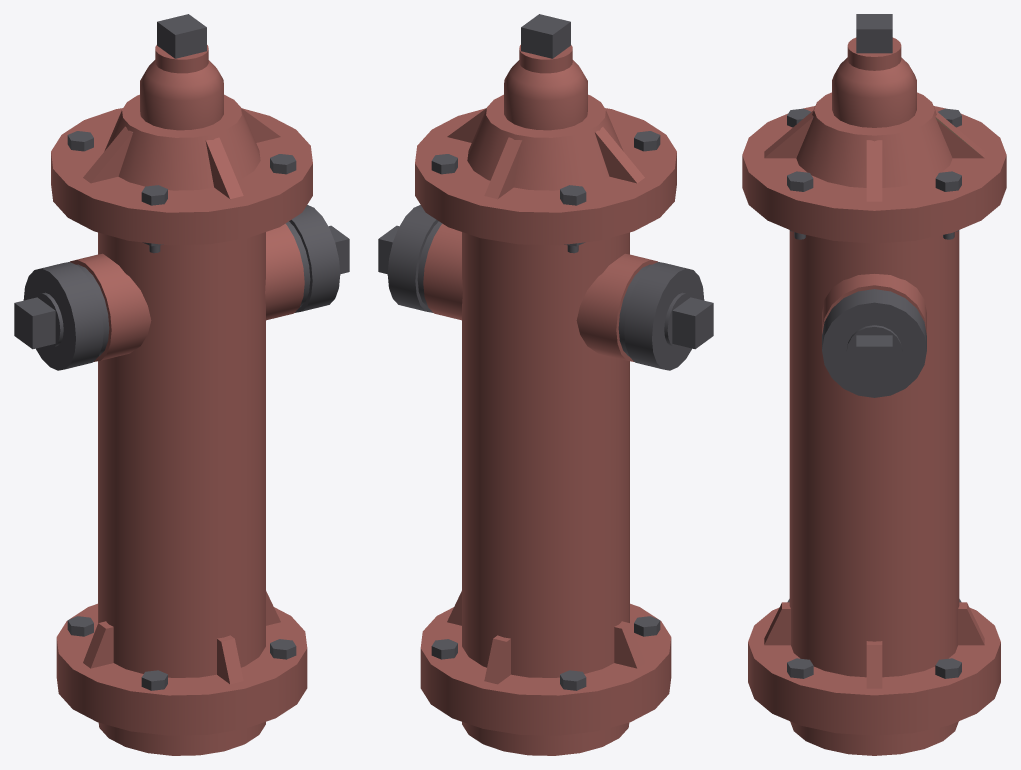
The model's file is Hydrant.fbx.
The picture shows the model from 3 angles, left to right: view 1: azimuth 30°, elevation 25°; view 2: azimuth 150°, elevation 25°; view 3: azimuth 270°, elevation 25°; orthographic projection.
Parts seen in each view (by area): view 1: Hydrant; view 2: Hydrant; view 3: Hydrant.
Part boxes in pixels (bbox=[...]): Hydrant: bbox=[14, 14, 349, 755]; Hydrant: bbox=[378, 14, 713, 755]; Hydrant: bbox=[742, 14, 1006, 755].
Bounding box in the file's own units: 39.95 × 83.82 × 28.76.
